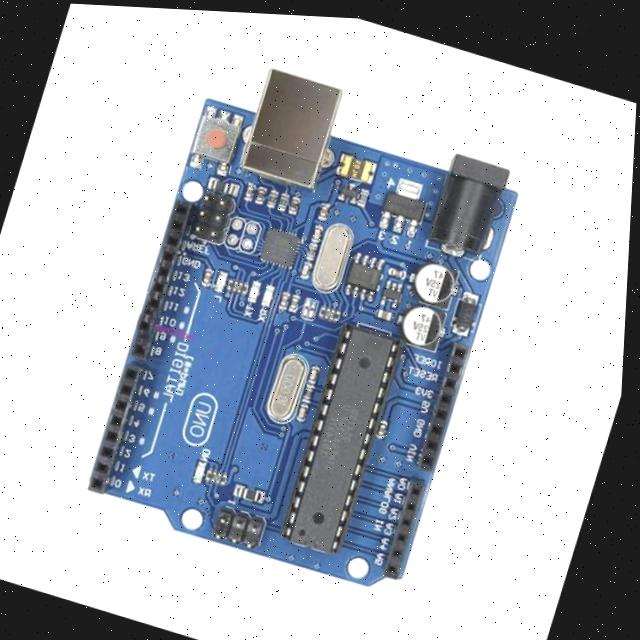Arduino: (58, 32, 556, 614)
